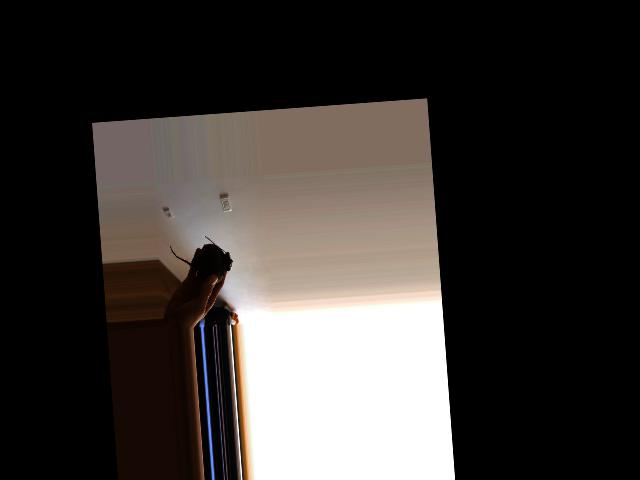beet: (168, 233, 234, 286)
